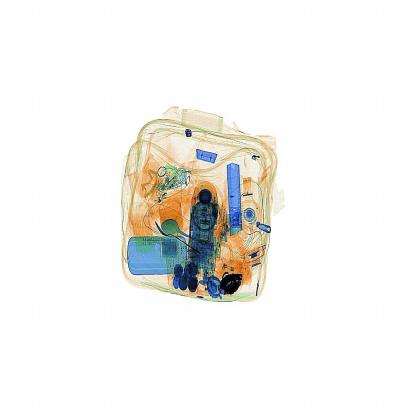pliers: (219, 159, 253, 246)
